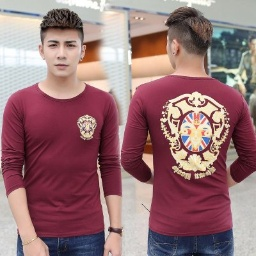face: (37, 9, 86, 76)
